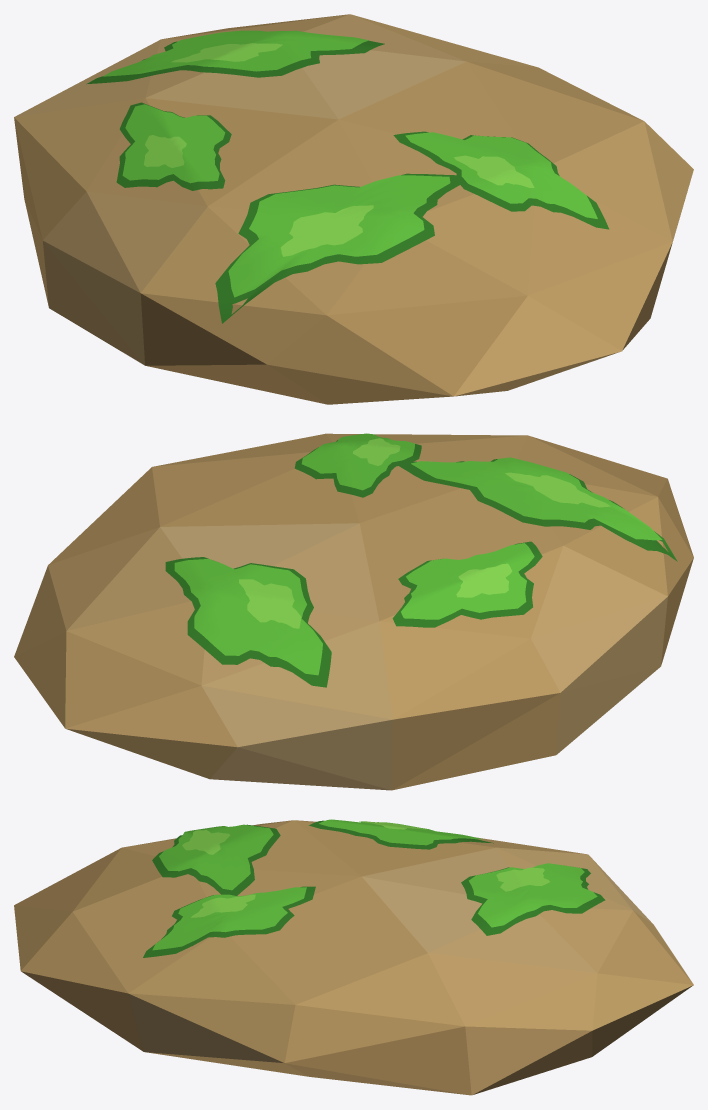
File: rock_1_rim.glb
3 views of the same model, one above another, from view 1: azimuth 30°, elevation 25°; view 2: azimuth 150°, elevation 25°; view 3: azimuth 270°, elevation 25° (orthographic). The views are drawn at different scales.
Visible parts, largest first — view 1: rock_1_rim; view 2: rock_1_rim; view 3: rock_1_rim.
Boxes of the visible parts, bbox=[...] form: rock_1_rim: bbox=[14, 14, 693, 404]; rock_1_rim: bbox=[14, 433, 693, 790]; rock_1_rim: bbox=[14, 819, 693, 1095].
Bounding box in the file's own units: 1.97 × 0.6046 × 2.6.
